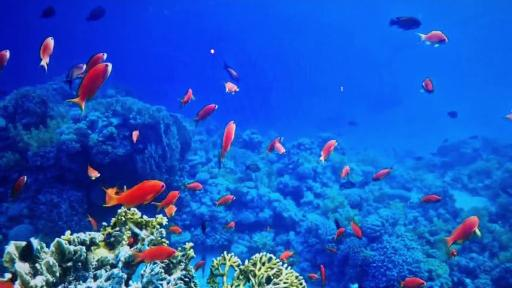Fish: (66, 63, 111, 114), (104, 180, 165, 207), (446, 216, 480, 249), (132, 246, 177, 263), (220, 121, 236, 162), (65, 64, 86, 90), (153, 191, 179, 211), (194, 105, 218, 126), (83, 53, 107, 74), (40, 38, 54, 73), (418, 31, 447, 46), (390, 17, 421, 30), (10, 175, 27, 198), (320, 140, 337, 162), (267, 138, 285, 154), (224, 63, 239, 82), (179, 89, 194, 107), (373, 168, 392, 181), (399, 278, 426, 287), (0, 50, 10, 71), (216, 195, 235, 206), (422, 78, 434, 93), (184, 182, 203, 191), (164, 205, 177, 218), (225, 82, 239, 94), (421, 195, 441, 203), (88, 166, 100, 179), (341, 166, 350, 178), (169, 226, 182, 234), (132, 130, 139, 143)
